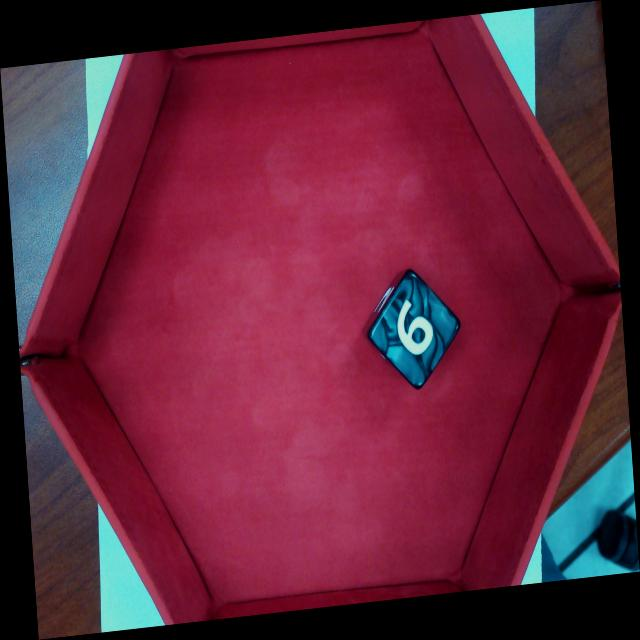dice: (370, 271, 460, 391)
